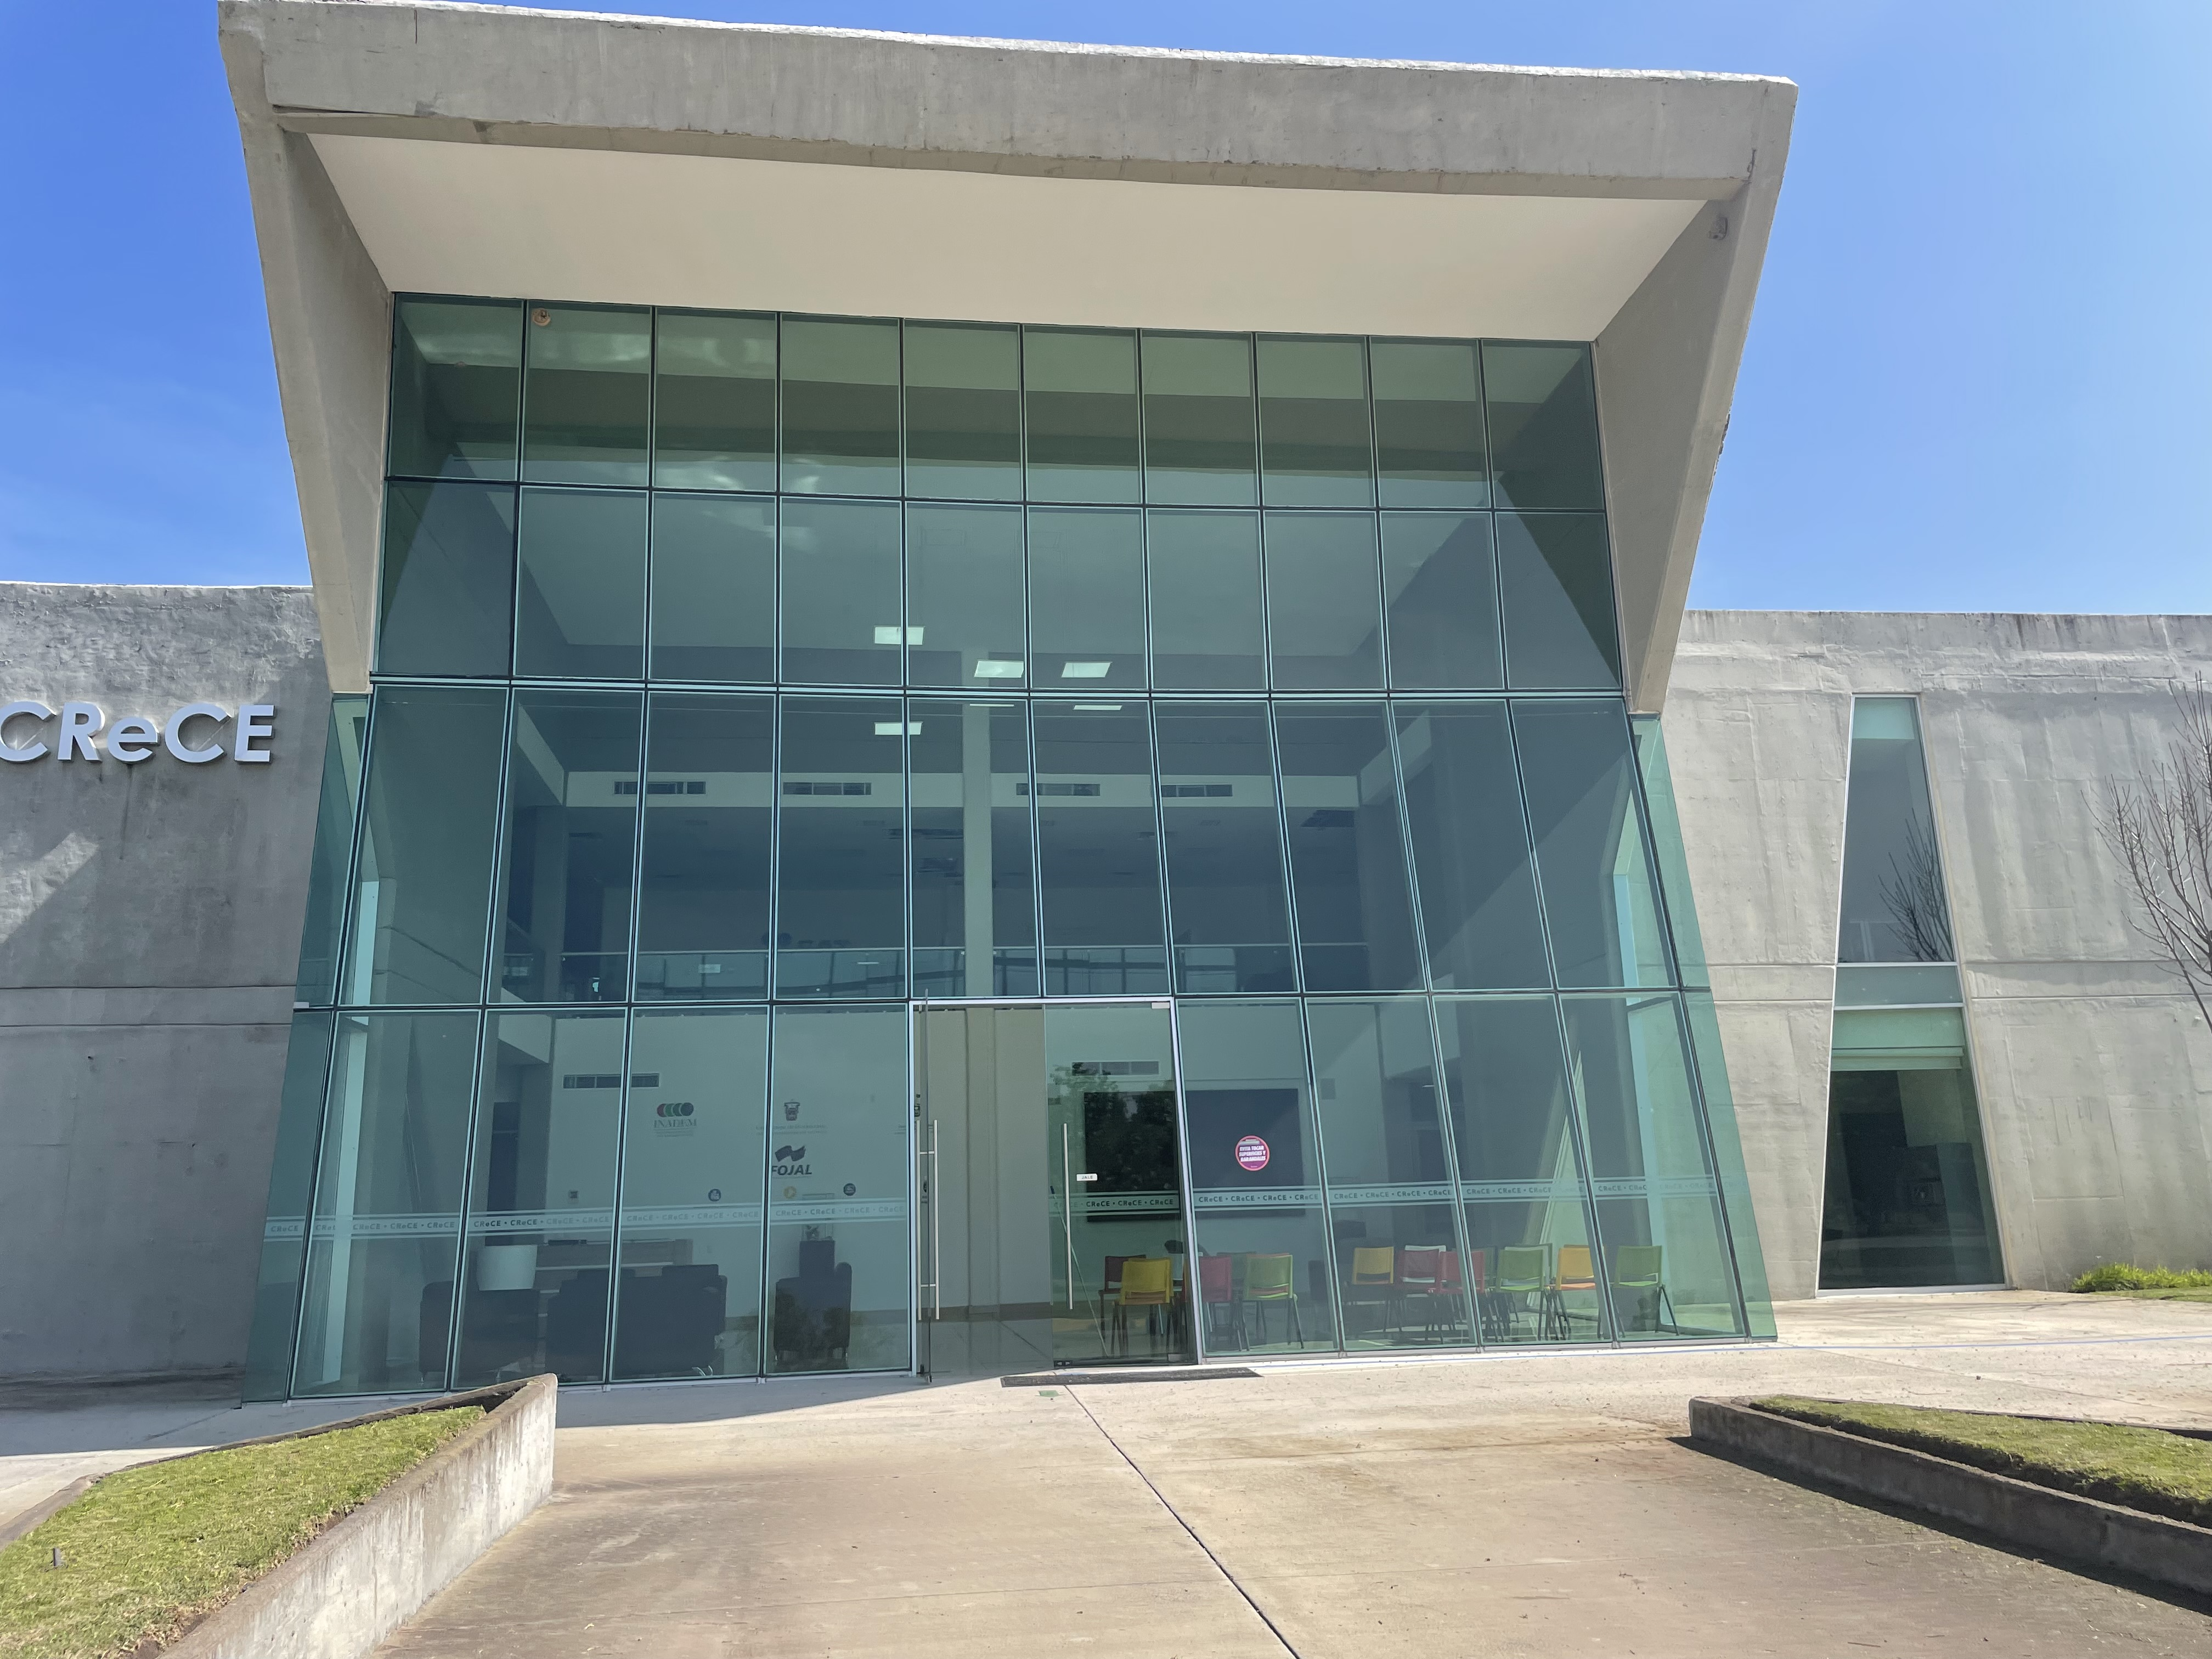crece: (30, 0, 1975, 1438)
